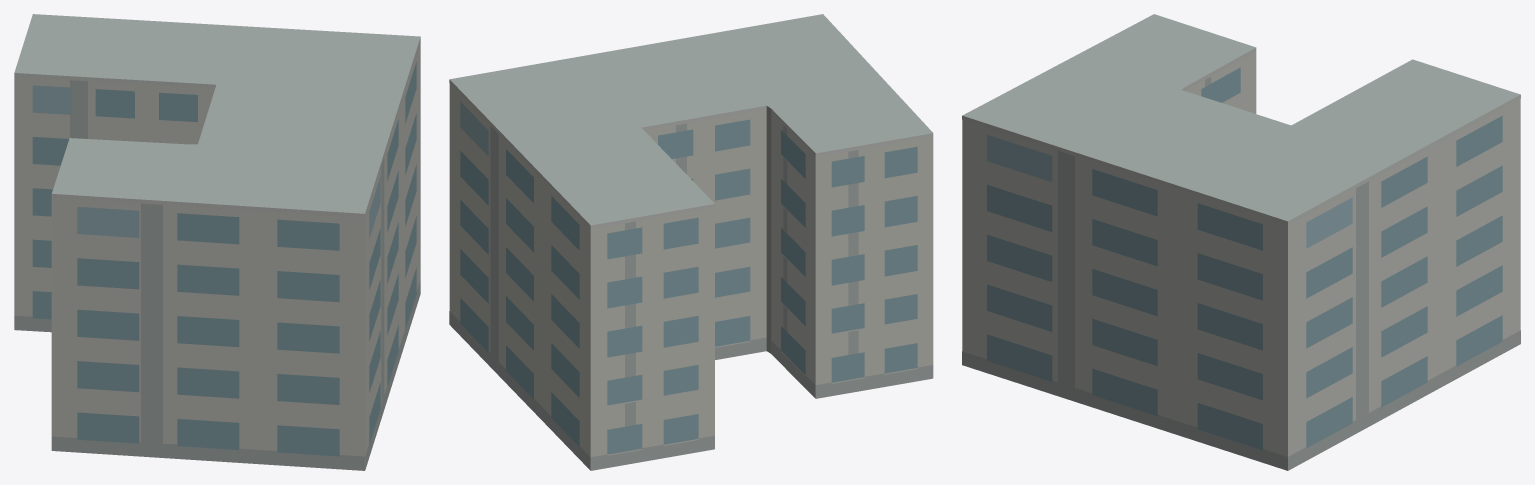
The model's file is survey-upis-32933071.glb.
The picture shows the model from 3 angles, left to right: view 1: azimuth 30°, elevation 25°; view 2: azimuth 150°, elevation 25°; view 3: azimuth 270°, elevation 25°; orthographic projection. The views are drawn at different scales.
Parts seen in each view (by area): view 1: survey-upis-32933071.tmp; view 2: survey-upis-32933071.tmp; view 3: survey-upis-32933071.tmp.
Boxes of the visible parts, bbox=[...] form: survey-upis-32933071.tmp: bbox=[14, 14, 420, 470]; survey-upis-32933071.tmp: bbox=[449, 14, 933, 470]; survey-upis-32933071.tmp: bbox=[962, 14, 1520, 470].
Bounding box in the file's own units: 27.19 × 15.25 × 30.95.
